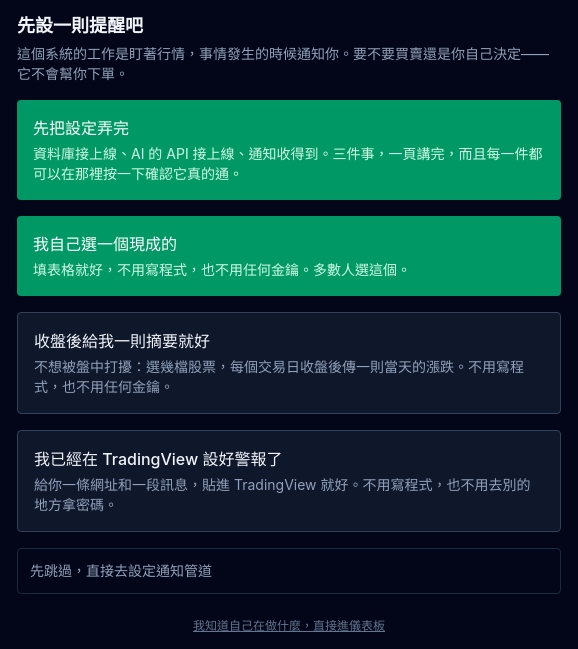
Test case: 引導流程：收盤摘要那條路 › 選的股票是加進自選股，不是另一份清單
Click the button "收盤後給我一則摘要就好 不想被盤中打擾：選幾檔股票，每個交易日收盤後傳一則當天的漲跌。不用寫程式，也不用任何金鑰。". click: [289, 363]
box: [17,312,561,414]
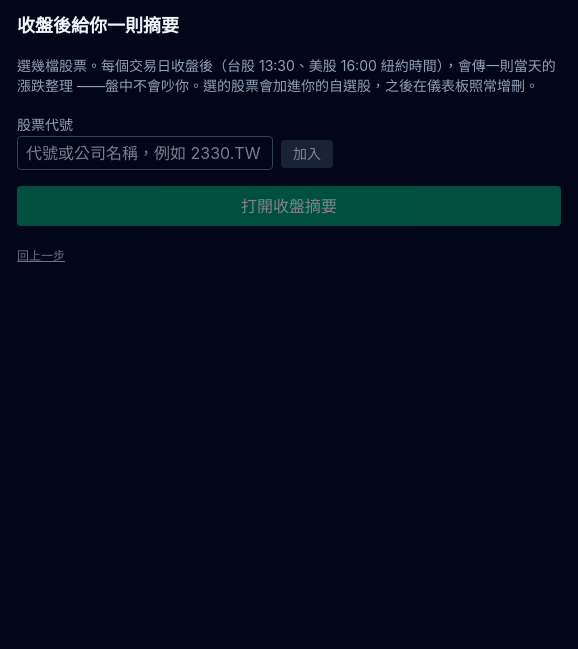
Type "2330.TW" into the field labelled "股票代號". click: [145, 153]
box: [17,136,273,170]
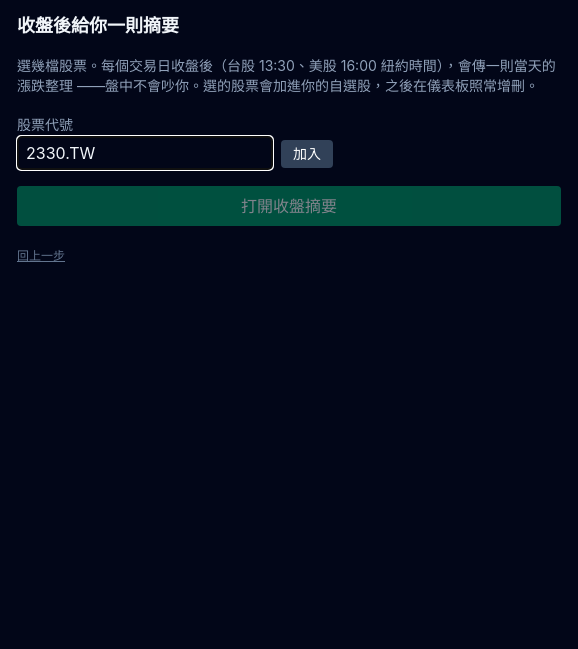
Click the button "加入". click: [307, 154]
box: [281,140,333,168]
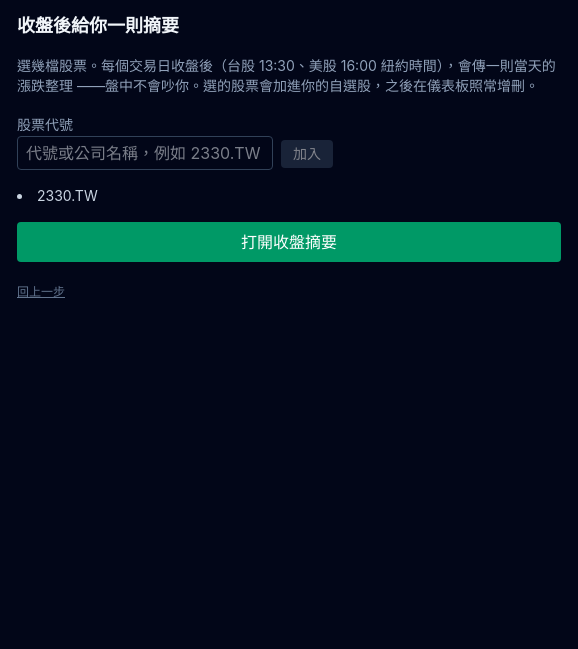
Expected: the list item "2330.TW" is shown, [37,187,98,204]
